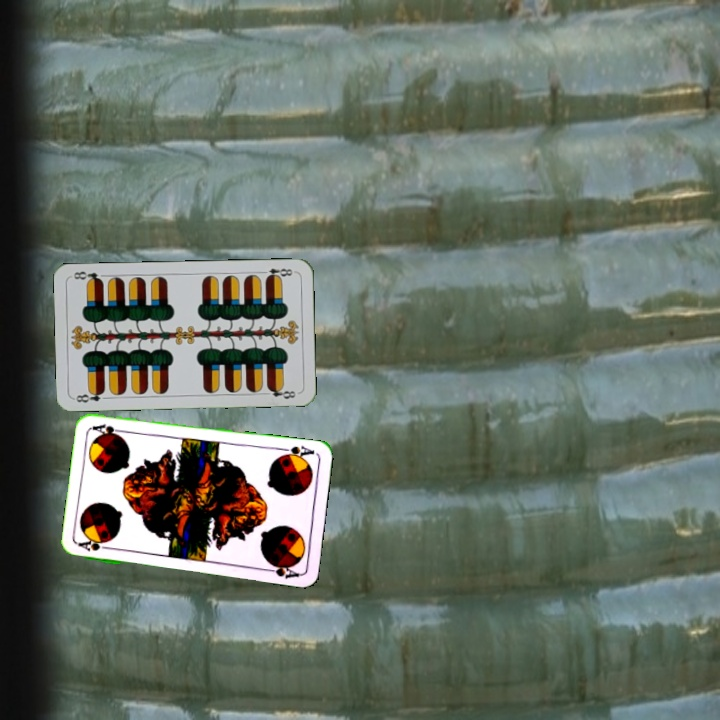E8: (71, 386, 107, 405), (257, 264, 297, 281)
SA: (276, 441, 317, 462), (75, 536, 115, 554)
